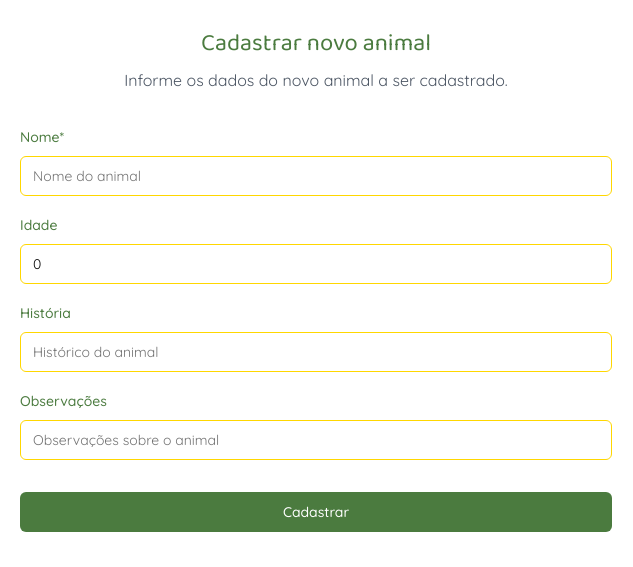
pages / add animals › should show error message when response is not 201
In the field labelled "Nome*": (316, 176) x1=20 y1=156 x2=612 y2=196, type "Bidu"
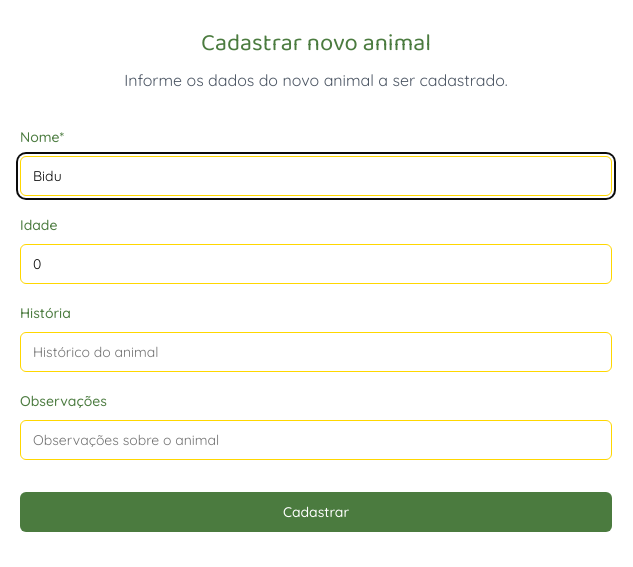
In the number field labelled "Idade": (316, 264) x1=20 y1=244 x2=612 y2=284, type "2"
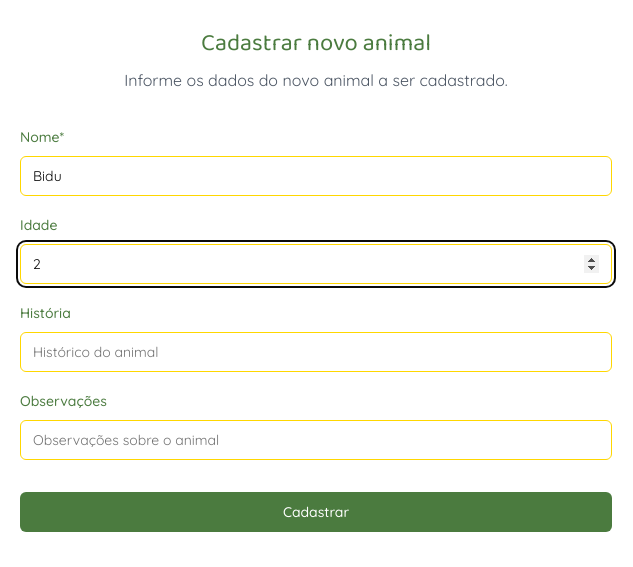
In the field labelled "História": (316, 352) x1=20 y1=332 x2=612 y2=372, type "Great dog"
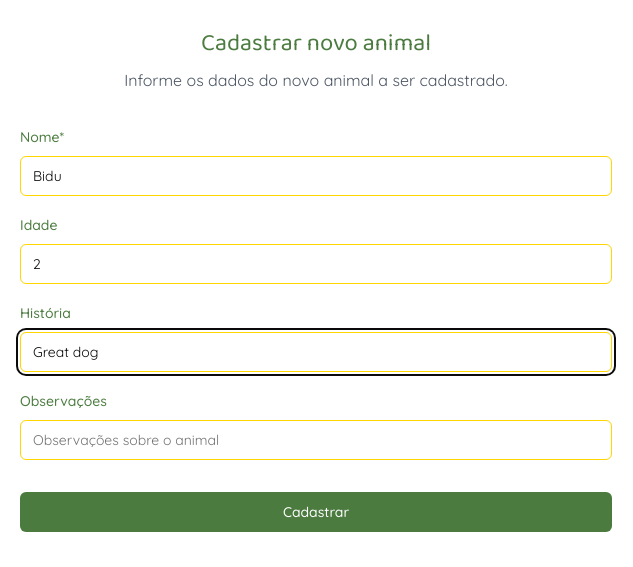
In the field labelled "Observações": (316, 440) x1=20 y1=420 x2=612 y2=460, type "Very friendly"
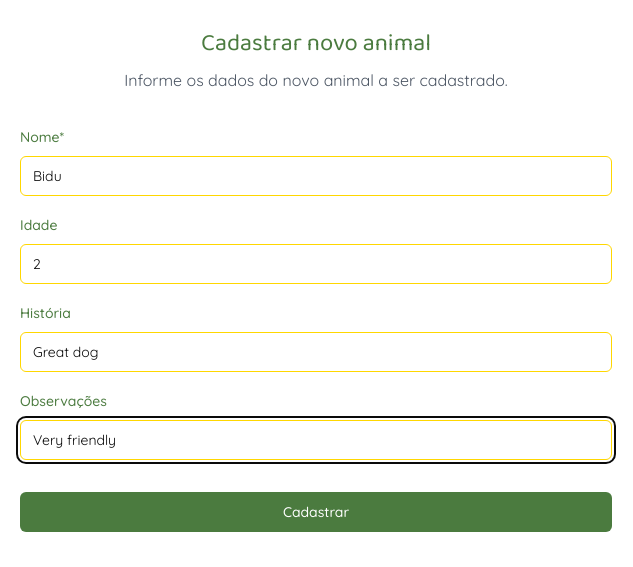
Click the button: (316, 512) x1=20 y1=492 x2=612 y2=532
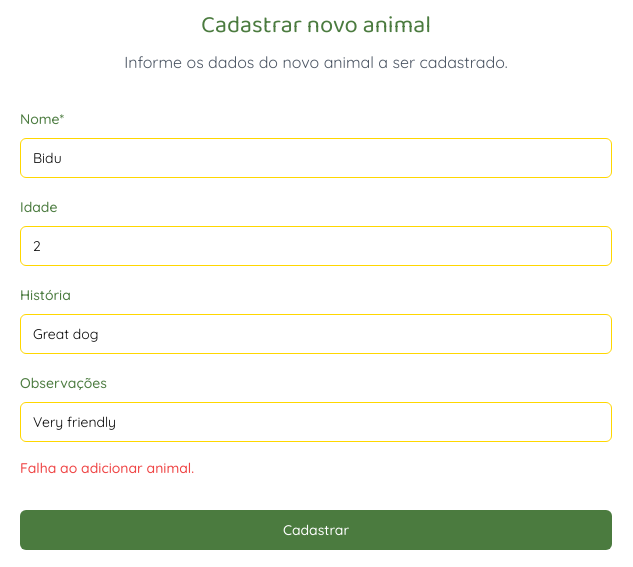
Expected: the text "Falha ao adicionar animal." is shown, x1=20 y1=459 x2=194 y2=477
